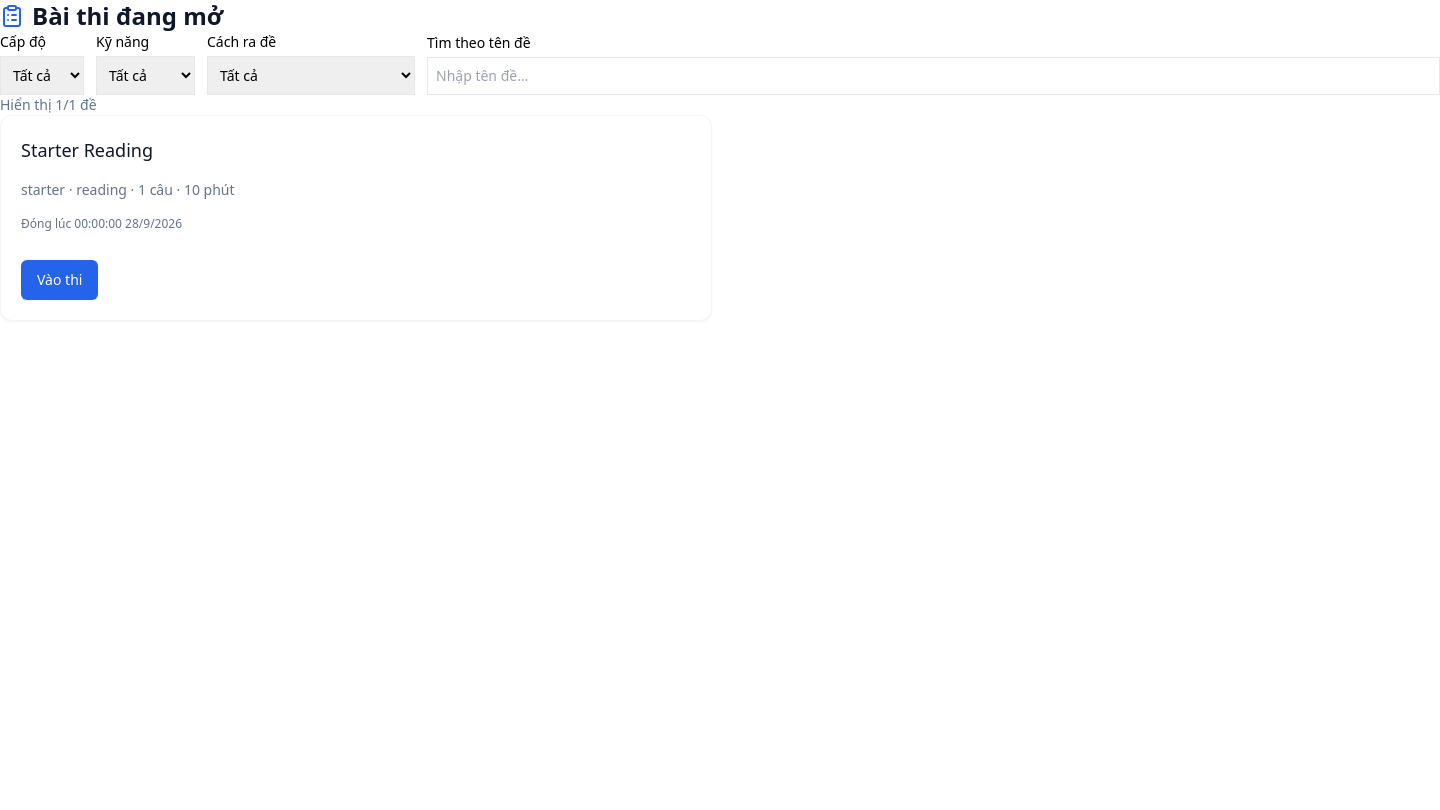
Test case: ExamsPage › danh dau cau xem lai, dieu huong toi cau va hoi lai khi nop
This screenshot has width=1440, height=810.
Expected: the heading "Starter Reading" is shown, [21,138,153,162]
Step 1. Click the button "Vào thi" → click(60, 280), box [21,260,98,300]
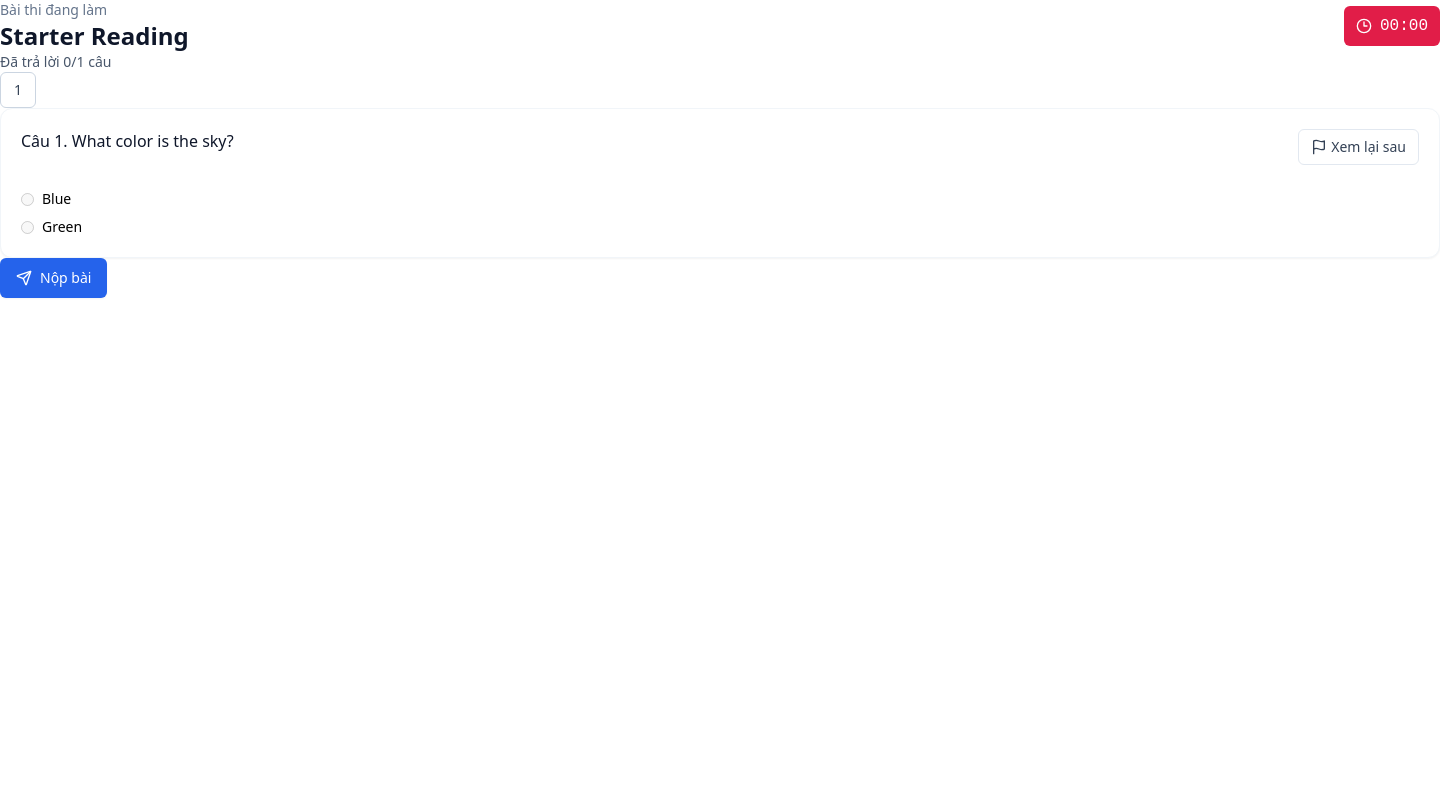
Step 2. Click the button with aria-label "Đánh dấu xem lại câu 1" → click(1359, 147), box [1298,129,1419,165]
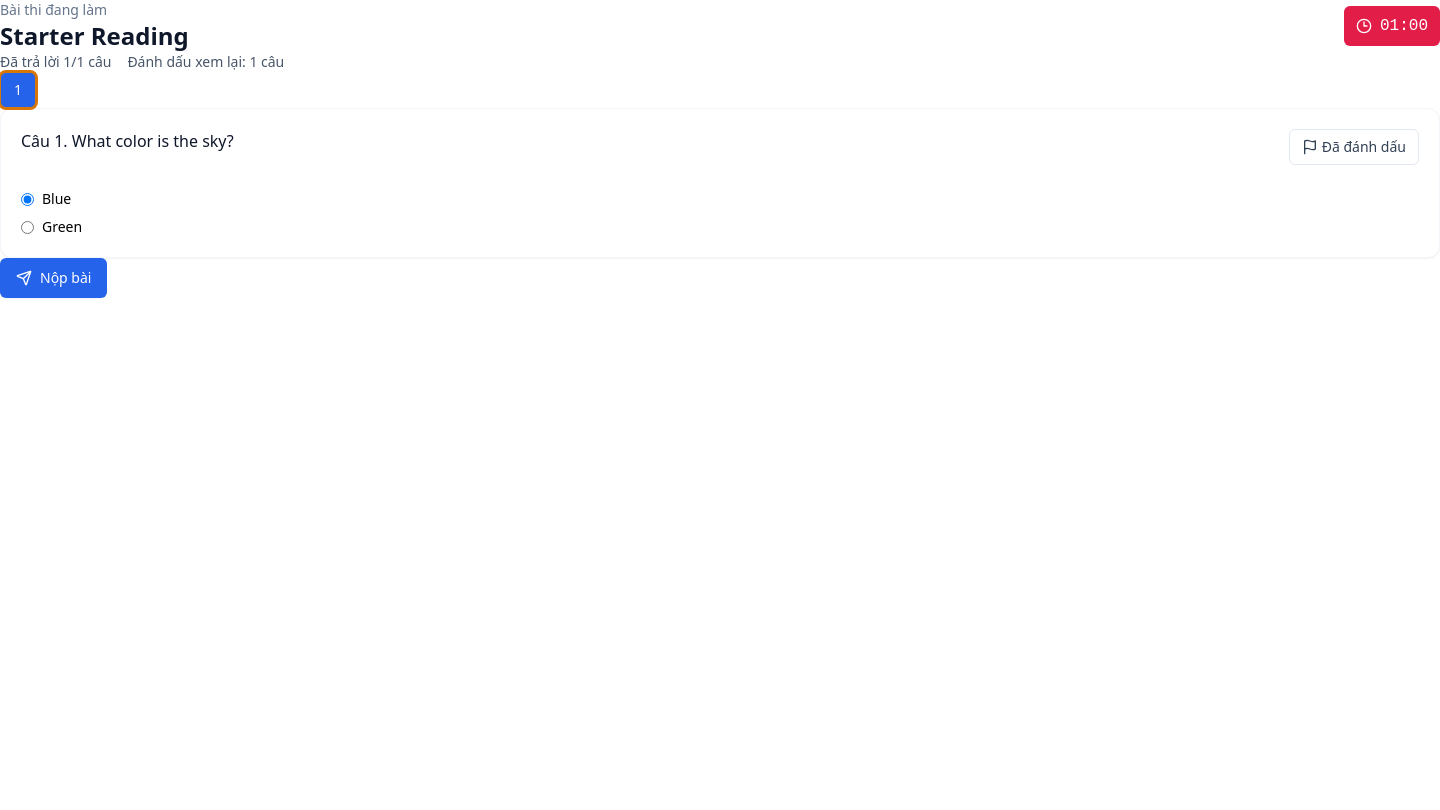
Now the text "Đánh dấu xem lại: 1 câu" is shown, box [127,52,284,72]
Step 3. Click the button named "Câu 1, đã trả lời, xem lại" → click(18, 90), box [0,72,36,108]
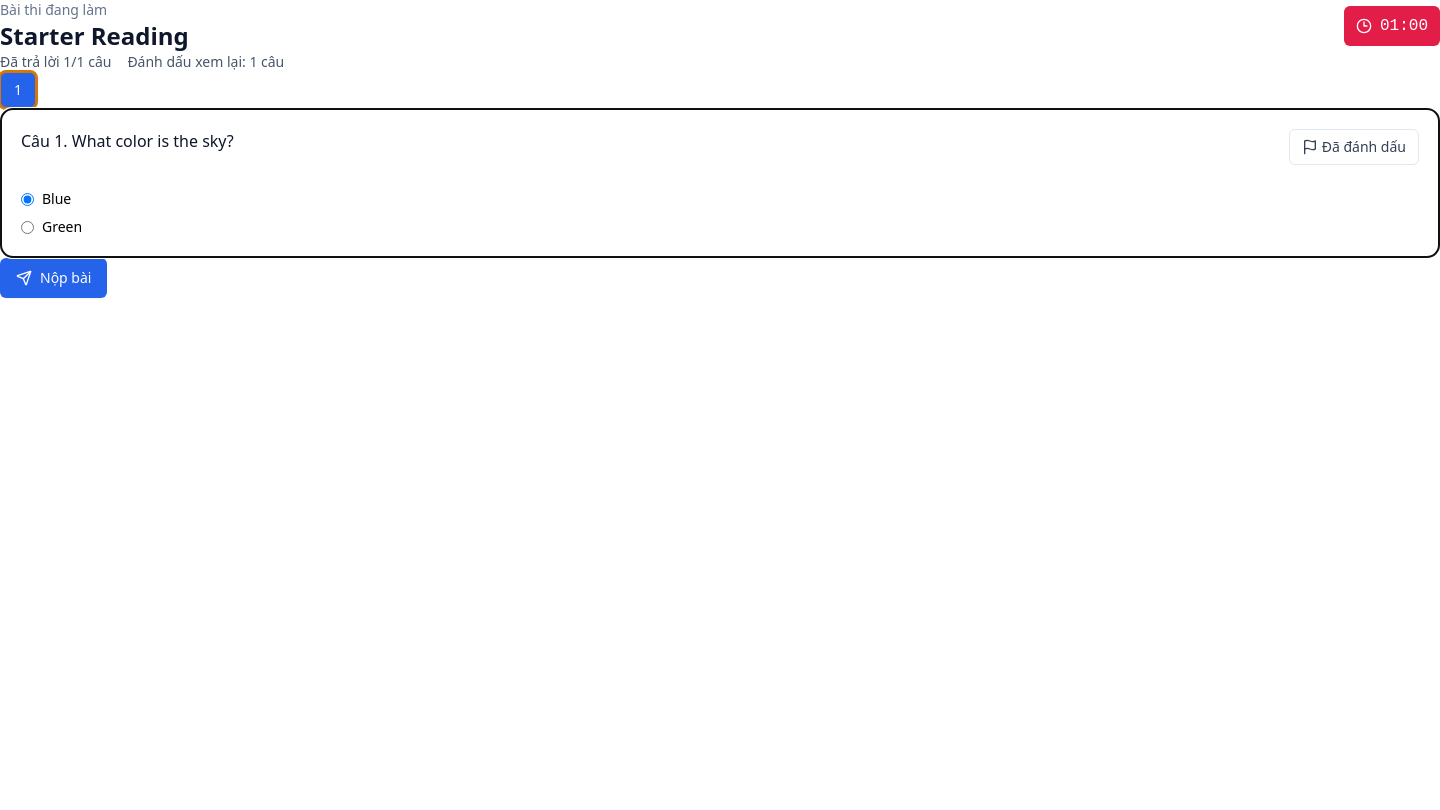
Step 4. Click the button "Nộp bài" → click(54, 278), box [0,258,107,298]
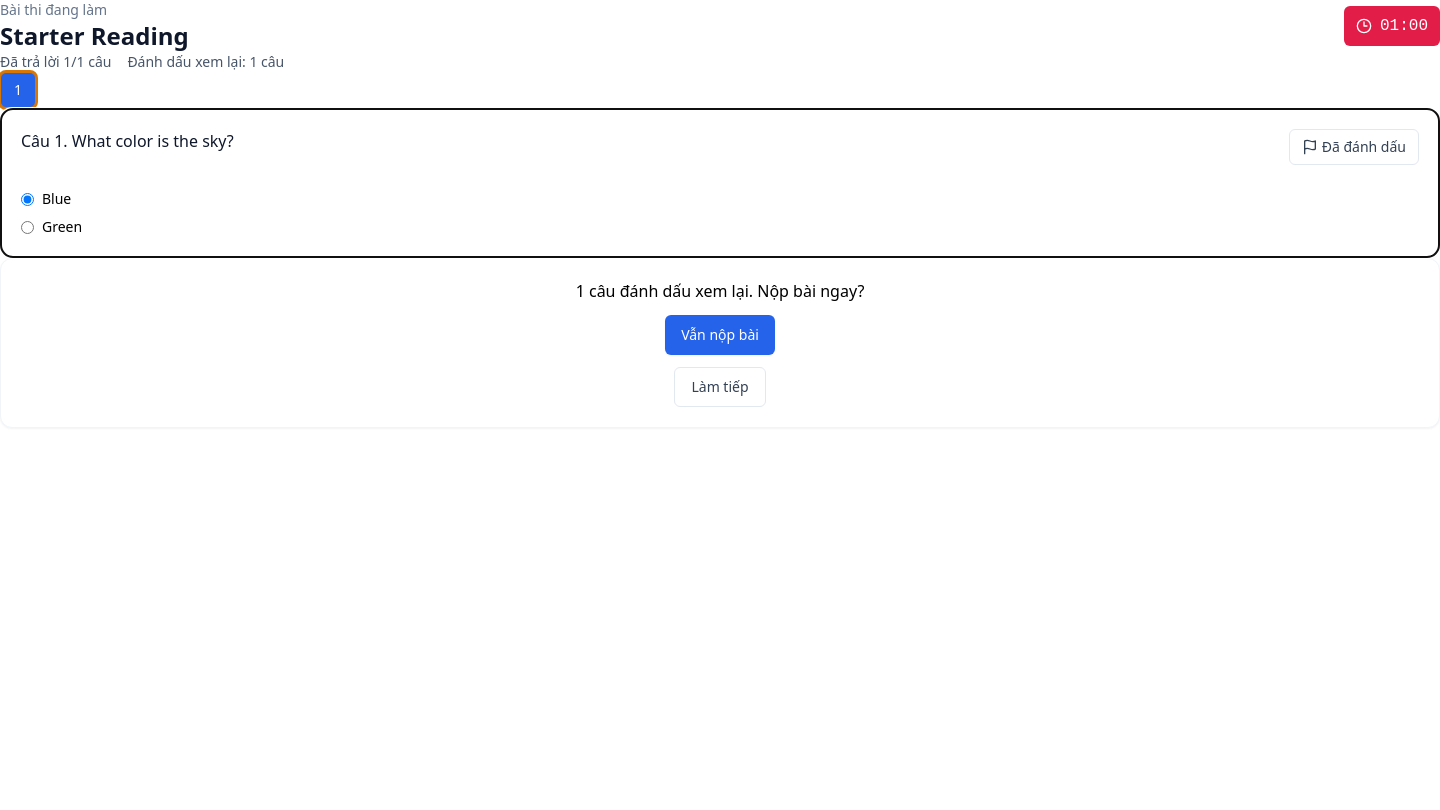
Now the dialog named "Xác nhận nộp bài" shows "1 câu đánh dấu xem lại", box [576,280,749,302]
